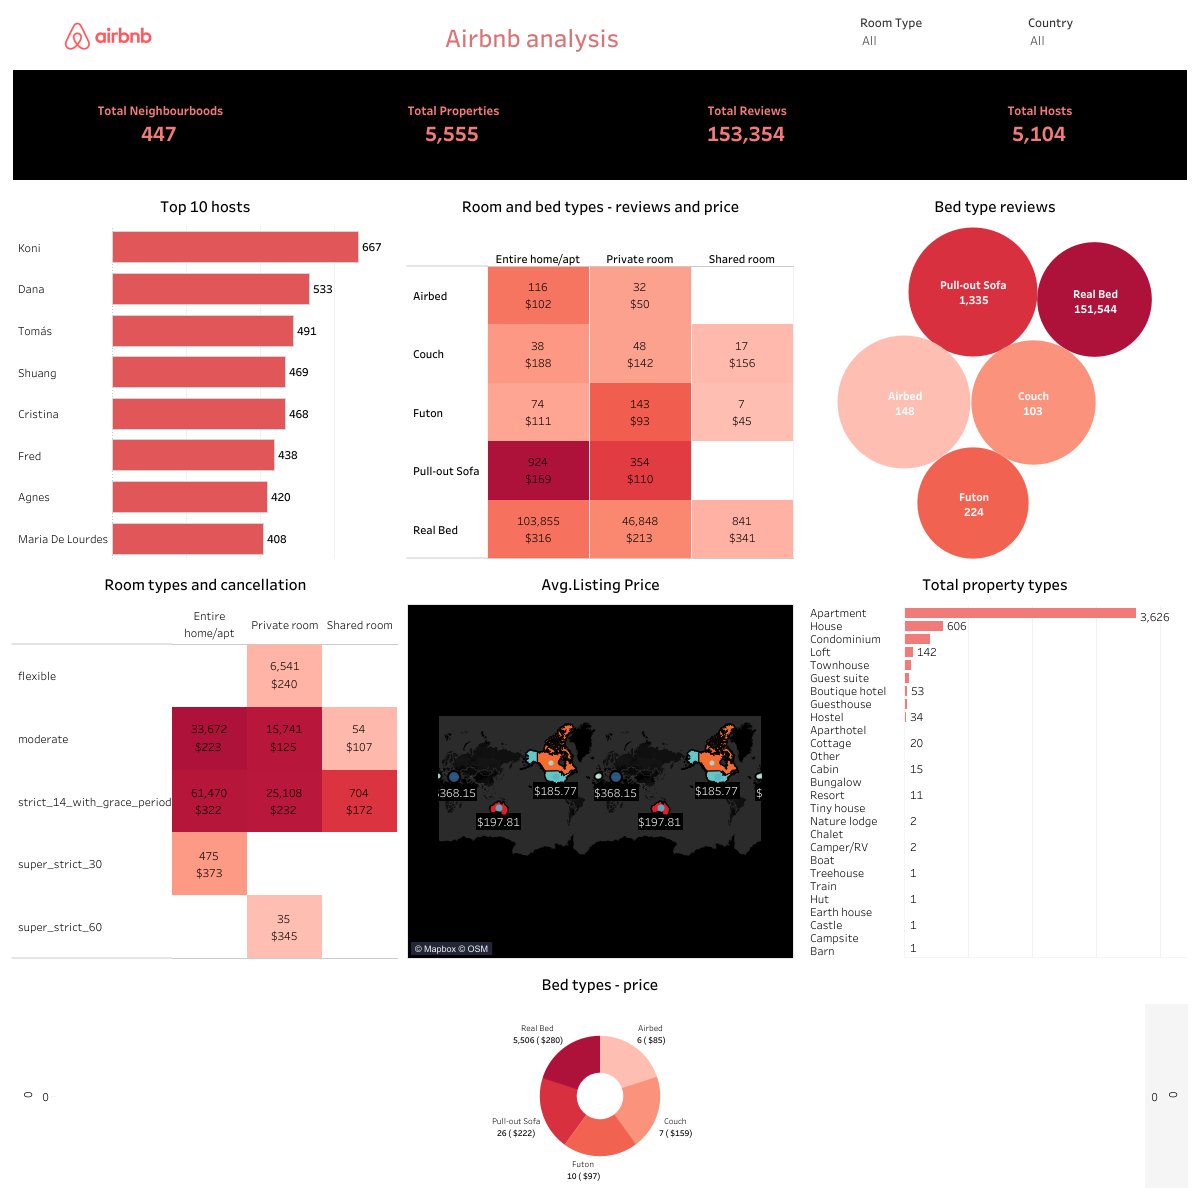

What the dashboard file says about the page in this screenshot:
{"tool":"tableau","page":{"name":"Airbnb analysis","canvas":[1200,1200],"ordinal":0},"visuals":[{"type":"image","param":"Image/image.png","box":[8,8,200,57]},{"type":"title","box":[208,8,648,57]},{"type":"filter","title":"Total HPNR","param":"[federated.1bb66ji173jhon104yu540ccvf0x].[none:room_type:nk]","box":[856,8,168,57]},{"type":"filter","title":"Total HPNR","param":"[federated.1bb66ji173jhon104yu540ccvf0x].[none:country:nk]","box":[1024,8,168,57]},{"type":"worksheet","title":"Total HPNR","mark":"Automatic","box":[8,65,1184,120]},{"type":"worksheet","title":"Top 10 hosts","mark":"Bar","rows":["host_id","host_name"],"cols":["number_of_reviews"],"box":[8,185,395,378]},{"type":"worksheet","title":"Room and bed types","mark":"Square","rows":["bed_type"],"cols":["room_type"],"box":[403,185,395,378]},{"type":"worksheet","title":"Bed type reviews","mark":"Circle","box":[798,185,394,378]},{"type":"worksheet","title":"Room types and cancellation","mark":"Square","rows":["cancellation_policy"],"cols":["room_type"],"box":[8,563,395,400]},{"type":"worksheet","title":"Property types - prices","mark":"Multipolygon","box":[403,563,395,400]},{"type":"worksheet","title":"Total property types","mark":"Automatic","rows":["property_type"],"cols":["_id"],"box":[798,563,394,400]},{"type":"worksheet","title":"Bed types","mark":"Pie","rows":["Calculation_1093530298691334149","Calculation_419397730269888519"],"box":[8,963,1184,229]}]}

Visuals, with their boxes in screenshot pixels (x1, y1, x2, y2), scaled from the page's 1200x1200 canvas onto the 1199x1199 screenshot:
image: [8, 8, 208, 65]
title: [208, 8, 855, 65]
"Total HPNR" filter: [855, 8, 1023, 65]
"Total HPNR" filter: [1023, 8, 1191, 65]
"Total HPNR" worksheet: [8, 65, 1191, 185]
"Top 10 hosts" worksheet (Bar marks): [8, 185, 403, 563]
"Room and bed types" worksheet (Square marks): [403, 185, 797, 563]
"Bed type reviews" worksheet (Circle marks): [797, 185, 1191, 563]
"Room types and cancellation" worksheet (Square marks): [8, 563, 403, 962]
"Property types - prices" worksheet (Multipolygon marks): [403, 563, 797, 962]
"Total property types" worksheet: [797, 563, 1191, 962]
"Bed types" worksheet (Pie marks): [8, 962, 1191, 1191]
